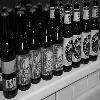beer: (52, 4, 68, 74)
